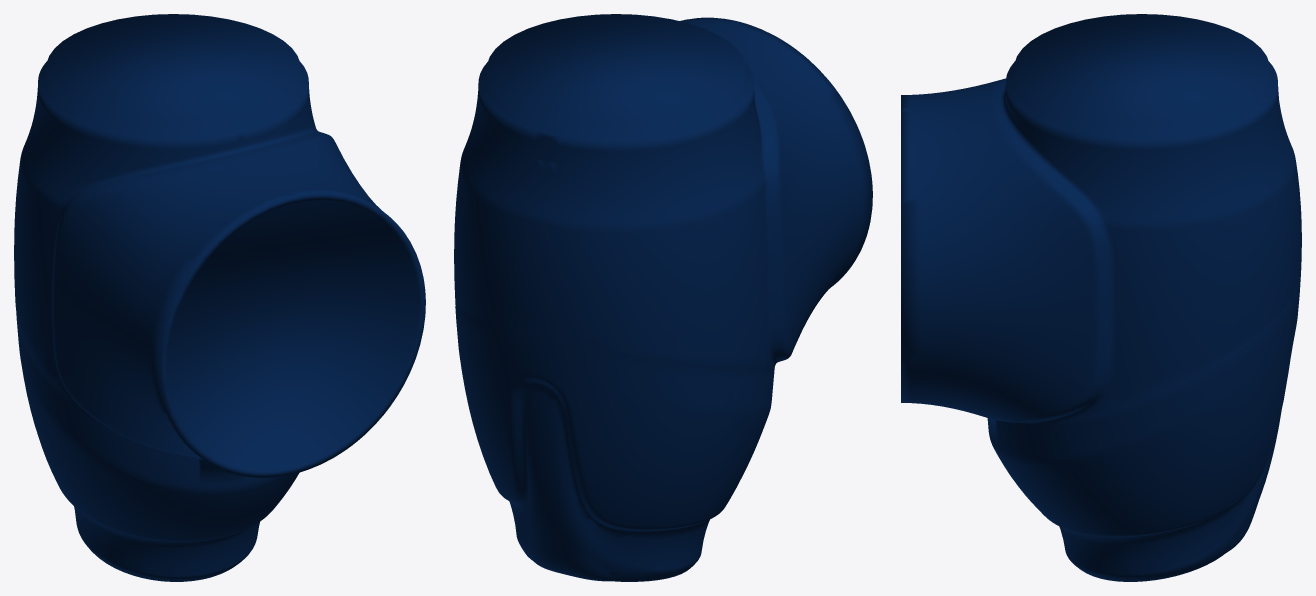
Rendered from Link_5_Wrist2.dae.
3 renders of one model, left to right at view 1: azimuth 30°, elevation 25°; view 2: azimuth 150°, elevation 25°; view 3: azimuth 270°, elevation 25°, orthographic.
Bounding box in the file's own units: 0.1081 × 0.1315 × 0.1772.
